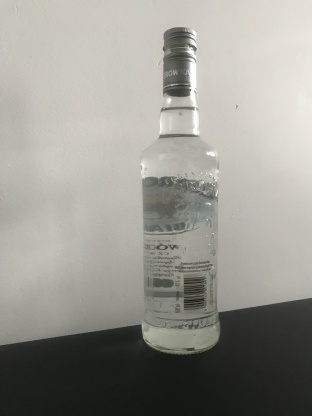nakretka: (161, 26, 198, 98)
